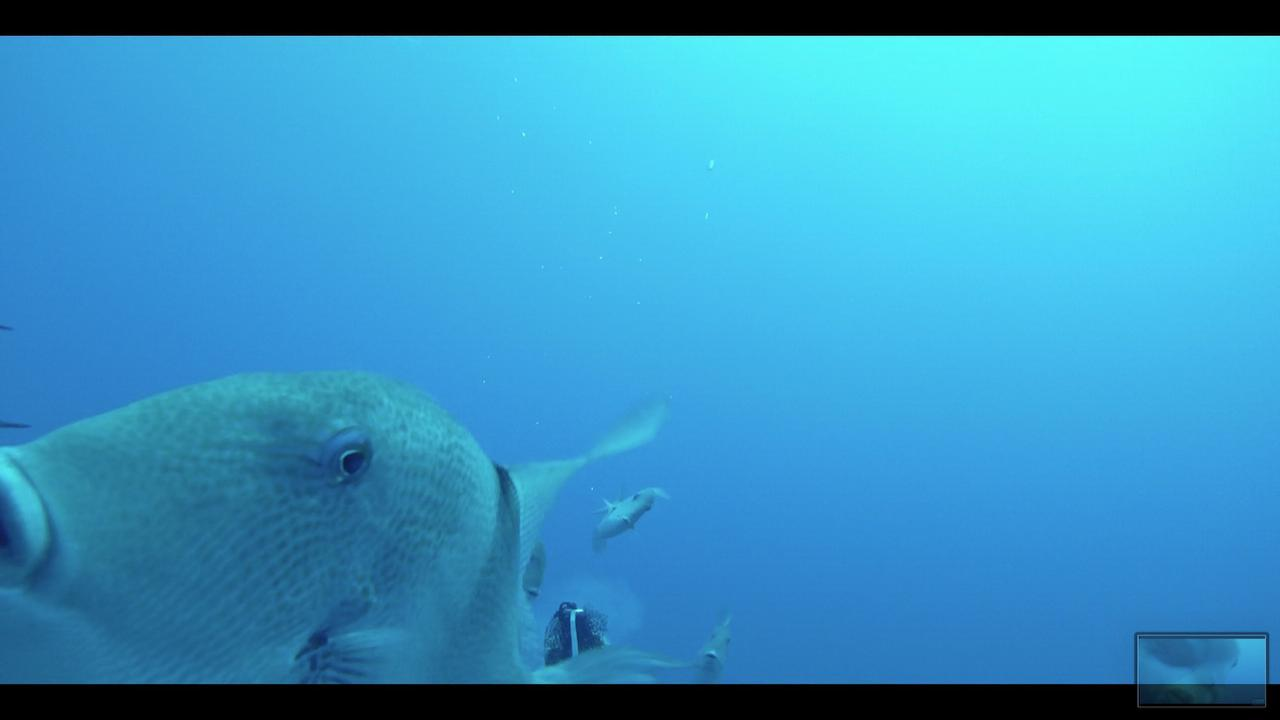balistes: (1, 366, 708, 682), (589, 473, 677, 549), (687, 598, 748, 678)
